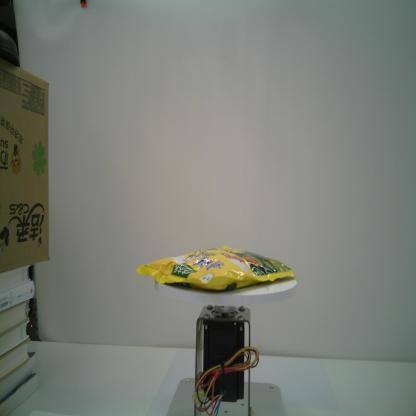Seasoner: (134, 245, 296, 292)
